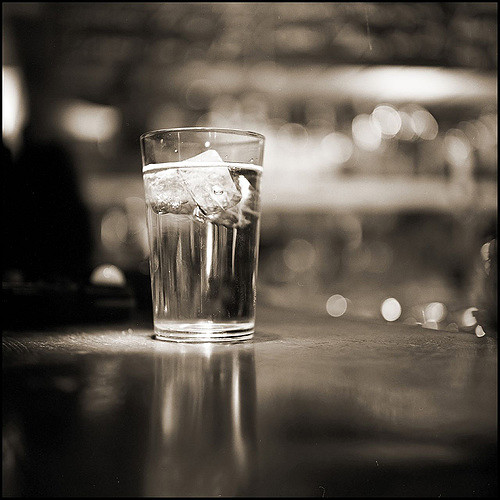glass of water: (136, 122, 268, 345)
